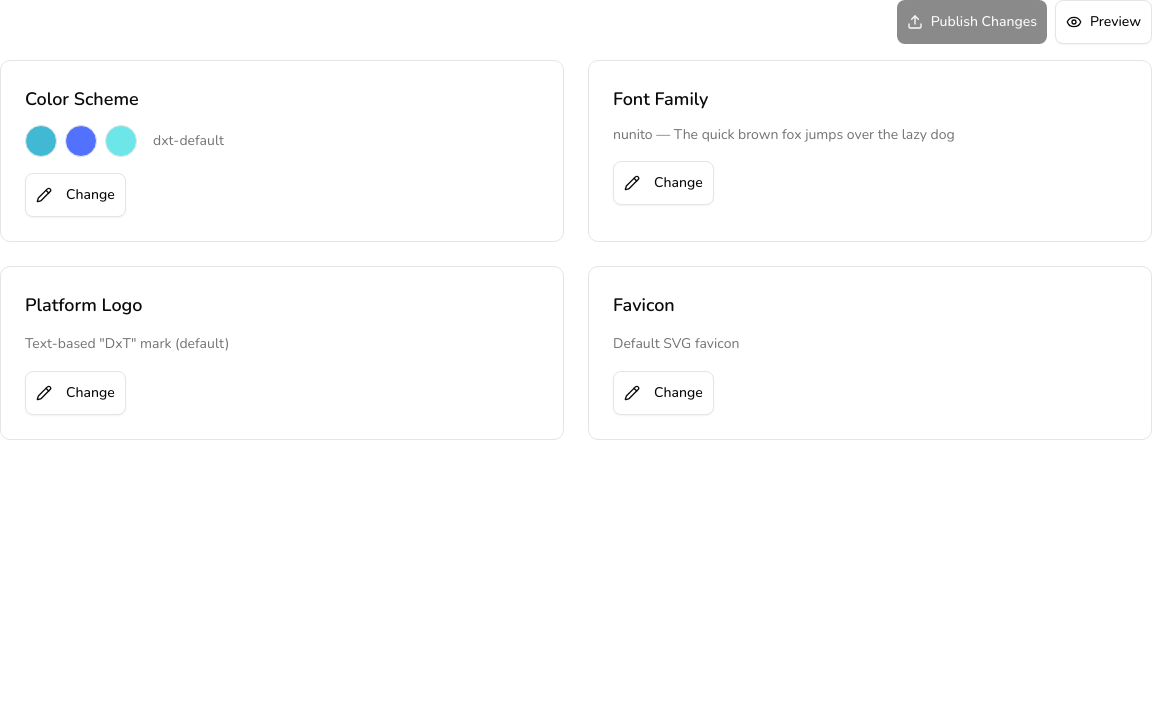
Test: BrandingManager › opens logo uploader on Change click
This screenshot has width=1152, height=720.
Click the button with test id "edit-logo-button".
click(75, 393)  # box [25,371,126,415]
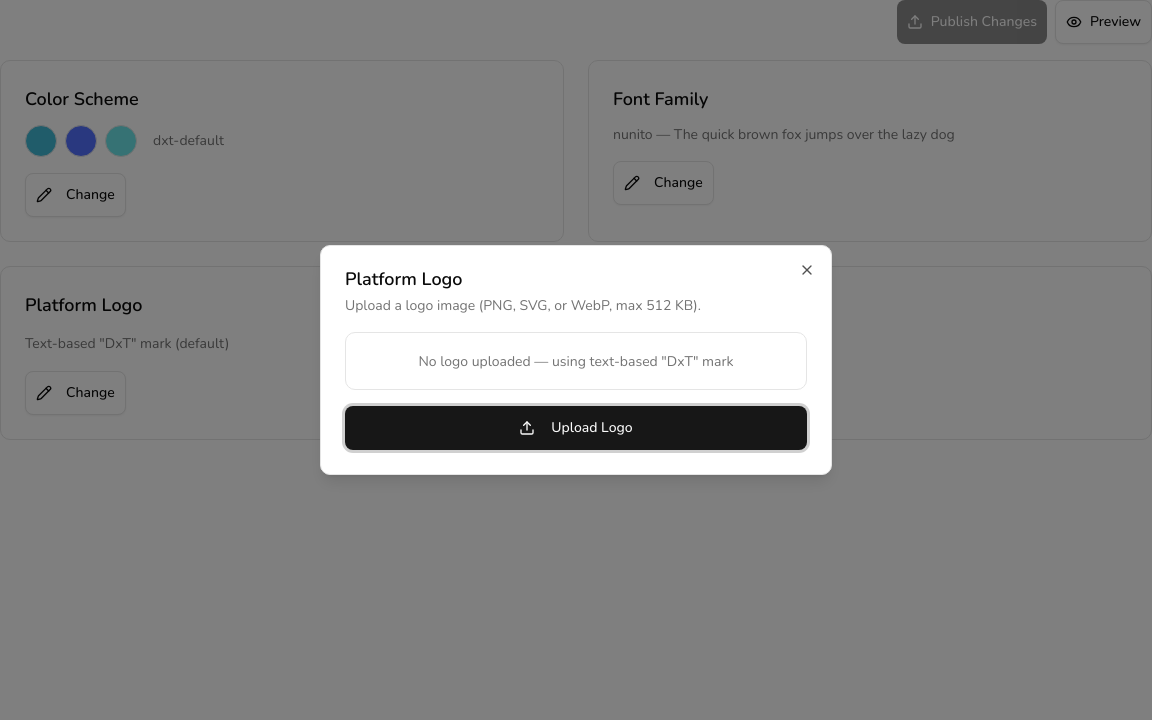
Expected: the dialog with test id "logo-uploader" is shown, [320,245,832,475]
